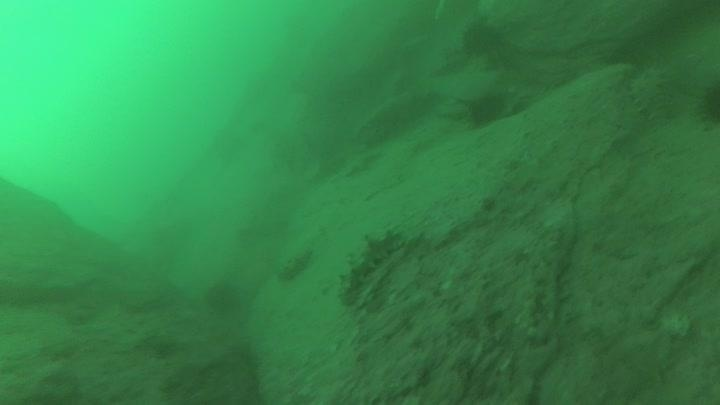echinus: (459, 17, 507, 59), (463, 89, 511, 129), (202, 278, 244, 318), (695, 80, 720, 129)
holothurian: (336, 224, 407, 306), (624, 61, 680, 122), (276, 245, 316, 283)
